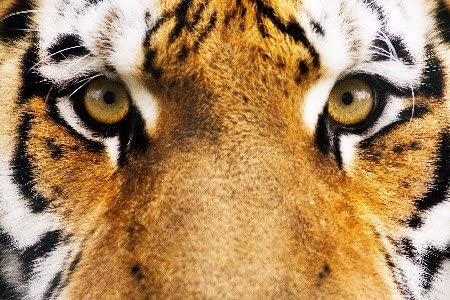Tigrew: (13, 16, 439, 260)
